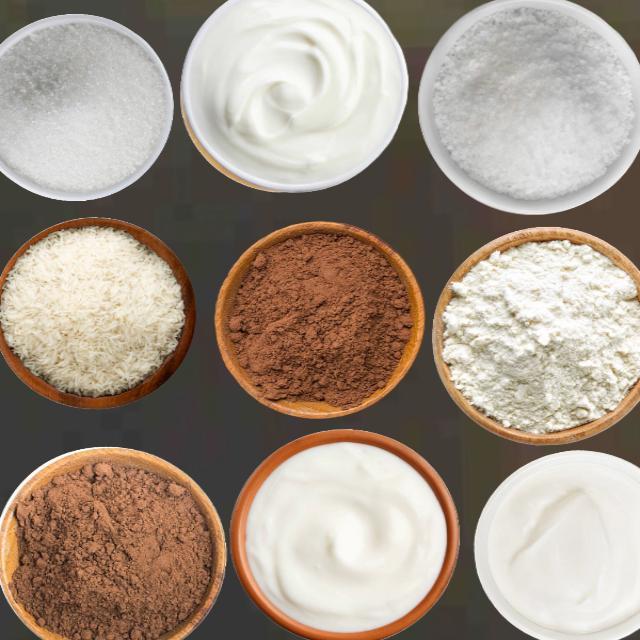Cocoa: (216, 221, 422, 417), (6, 455, 216, 639)
Flour: (440, 238, 639, 434)
Sugar: (431, 5, 635, 200), (0, 19, 169, 193)
